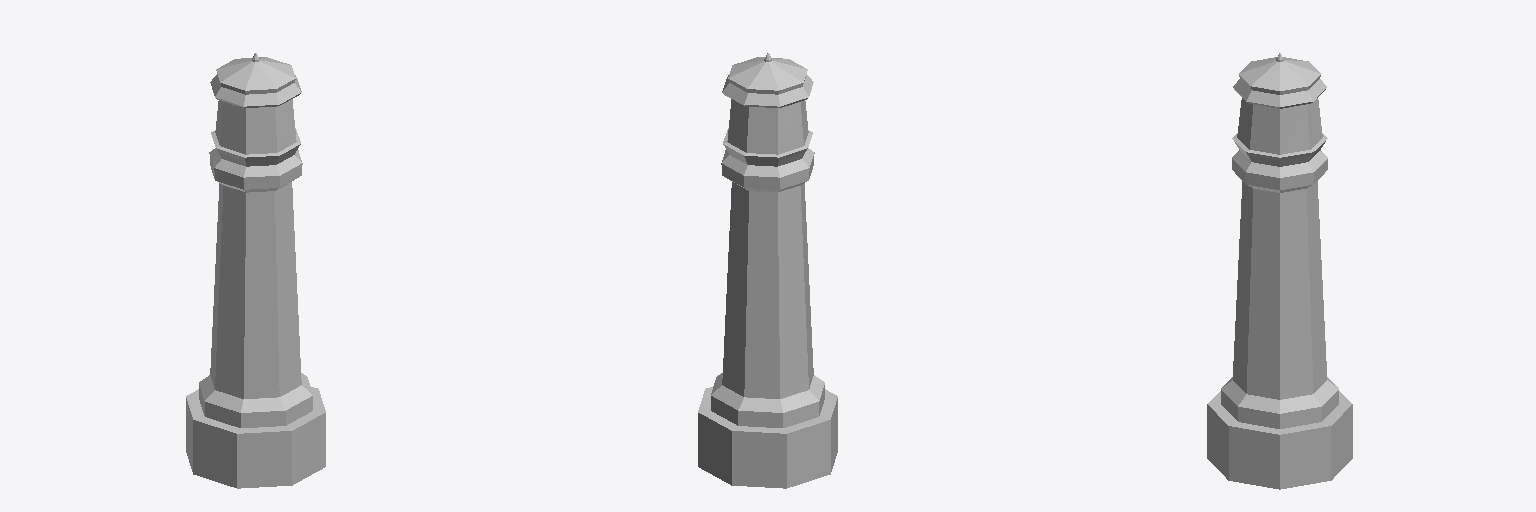
Rendered from lighthouse.obj.
The picture shows the model from 3 angles: view 1: azimuth 30°, elevation 25°; view 2: azimuth 150°, elevation 25°; view 3: azimuth 270°, elevation 25°; orthographic projection.
Parts seen in each view (by area): view 1: pCylinder1; view 2: pCylinder1; view 3: pCylinder1.
Boxes of the visible parts, <box> form: pCylinder1: <box>186,53,325,488</box>; pCylinder1: <box>698,53,837,488</box>; pCylinder1: <box>1207,53,1352,489</box>.
Bounding box in the file's own units: 76.71 × 237 × 76.71.